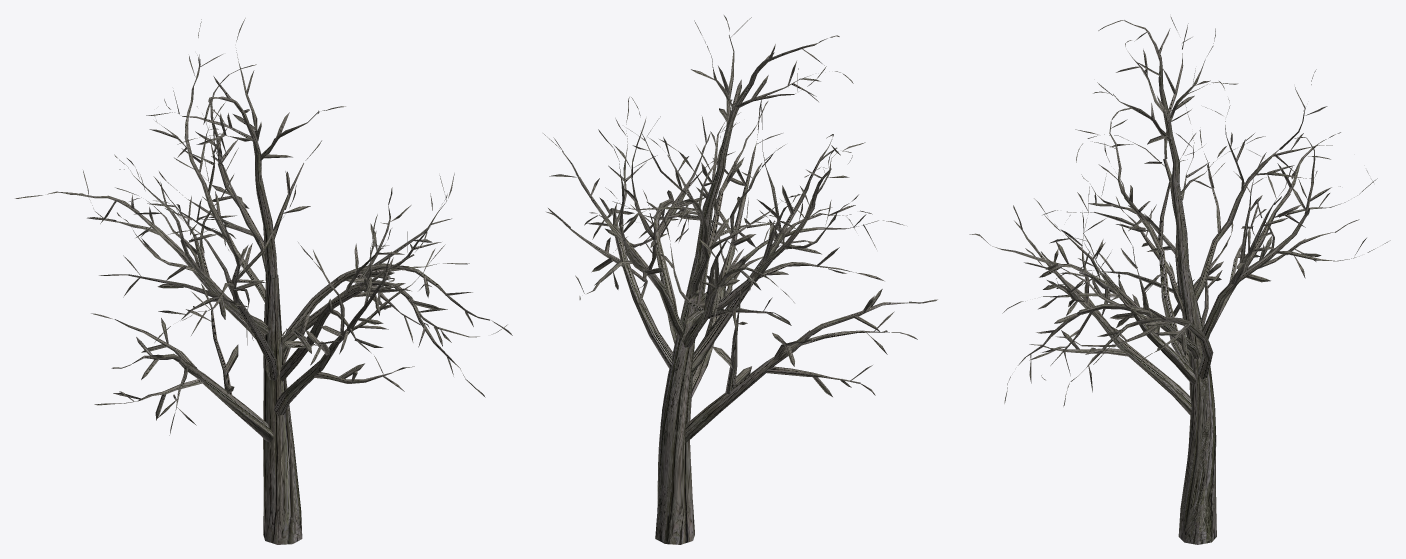
File: muerto_fresno.glb
3 renders of one model, left to right at view 1: azimuth 30°, elevation 25°; view 2: azimuth 150°, elevation 25°; view 3: azimuth 270°, elevation 25°, orthographic. The views are drawn at different scales.
Parts seen in each view (by area): view 1: muerto_fresno_ramas; view 2: muerto_fresno_ramas; view 3: muerto_fresno_ramas.
Boxes of the visible parts, left/top/right/bottom form: muerto_fresno_ramas: left=15, top=18, right=512, bottom=544; muerto_fresno_ramas: left=543, top=15, right=937, bottom=544; muerto_fresno_ramas: left=969, top=16, right=1390, bottom=544.
Size of the model in its own units: 9.04 by 12 by 9.31.
1 material, 1 textured.
